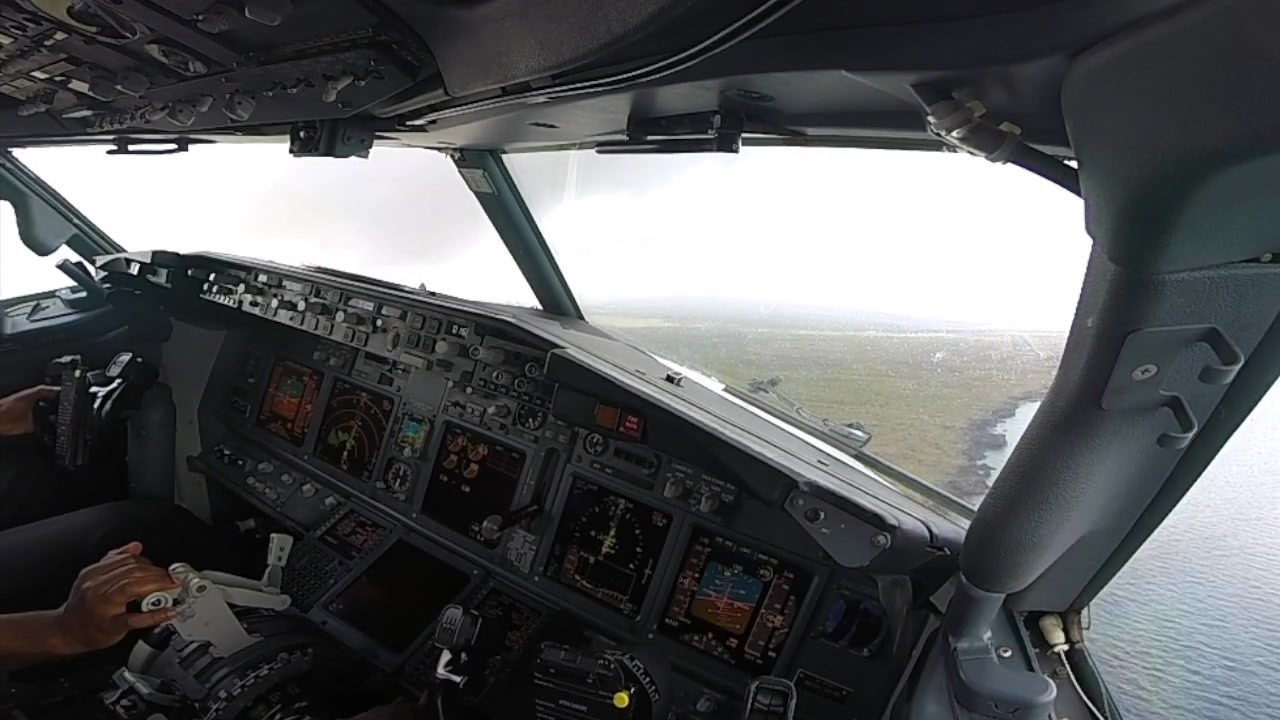runway: (1005, 331, 1040, 353)
